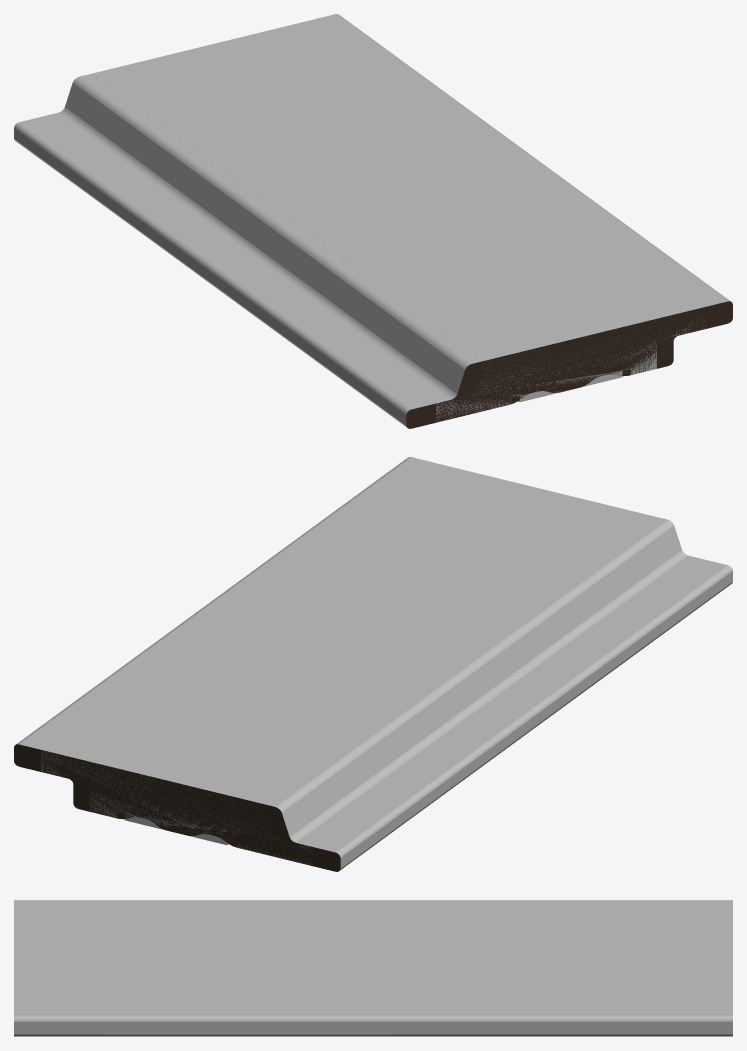
The model's file is spruce-facade.glb.
3 renders of one model, top to bottom at view 1: azimuth 30°, elevation 25°; view 2: azimuth 150°, elevation 25°; view 3: azimuth 270°, elevation 25°, orthographic. The views are drawn at different scales.
Visible parts, largest first — view 1: Pusė_Špunto_45_Eglė, Pusė_Špunto_Eglė; view 2: Pusė_Špunto_45_Eglė, Pusė_Špunto_Eglė; view 3: Pusė_Špunto_45_Eglė, Pusė_Špunto_Eglė.
Boxes of the visible parts, x1=… form: Pusė_Špunto_45_Eglė: x1=92, y1=19, x2=705, y2=421; Pusė_Špunto_Eglė: x1=14, y1=14, x2=732, y2=428; Pusė_Špunto_45_Eglė: x1=41, y1=462, x2=654, y2=864; Pusė_Špunto_Eglė: x1=14, y1=457, x2=732, y2=871; Pusė_Špunto_45_Eglė: x1=14, y1=907, x2=732, y2=1005; Pusė_Špunto_Eglė: x1=14, y1=900, x2=732, y2=1036.
Size of the model in its own units: 0.0798 by 0.0117 by 0.166.
